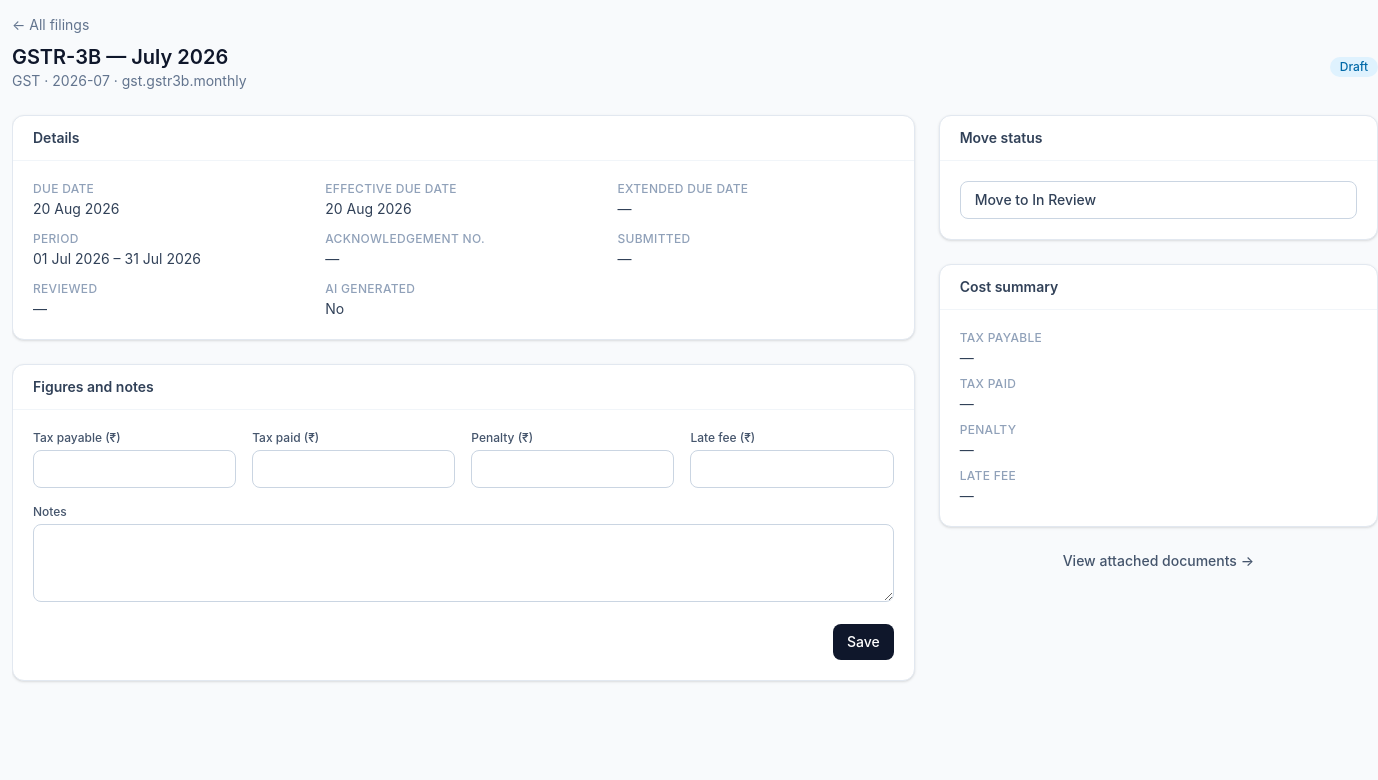
Test: FilingDetailPage › shows the server's error message when a transition is rejected
Click the button "Move to In Review": (1003, 200) 960,181 -> 1357,219
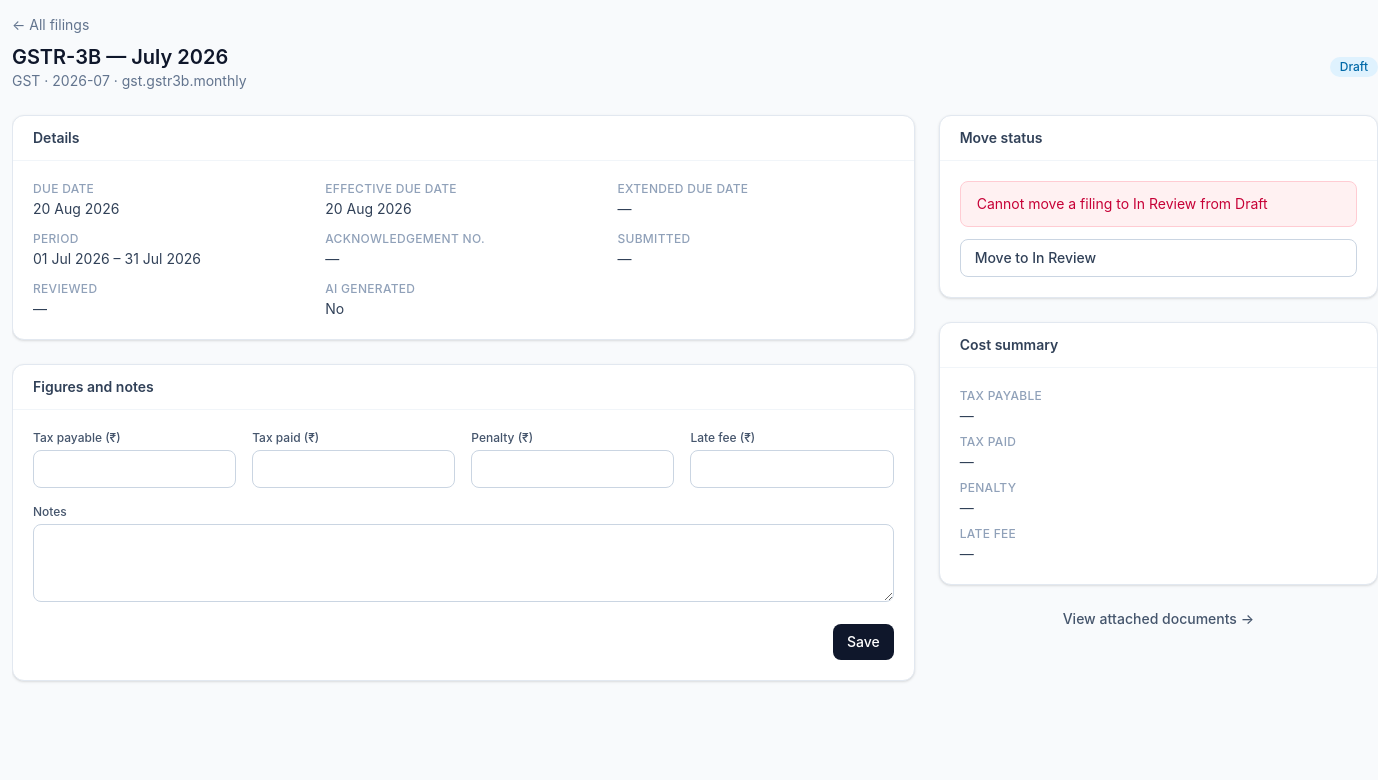
Check: the text "Cannot move a filing to In Review from Draft" is shown, box 960,181 -> 1357,227
